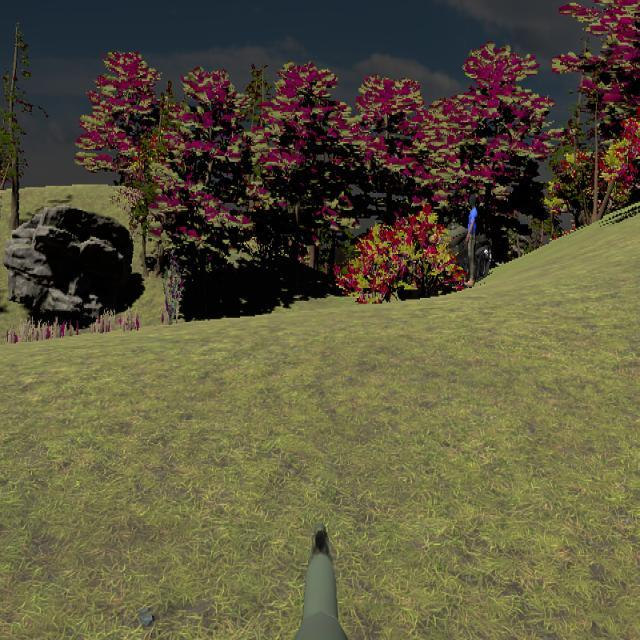Human: (465, 193, 479, 289), (465, 194, 478, 290)
